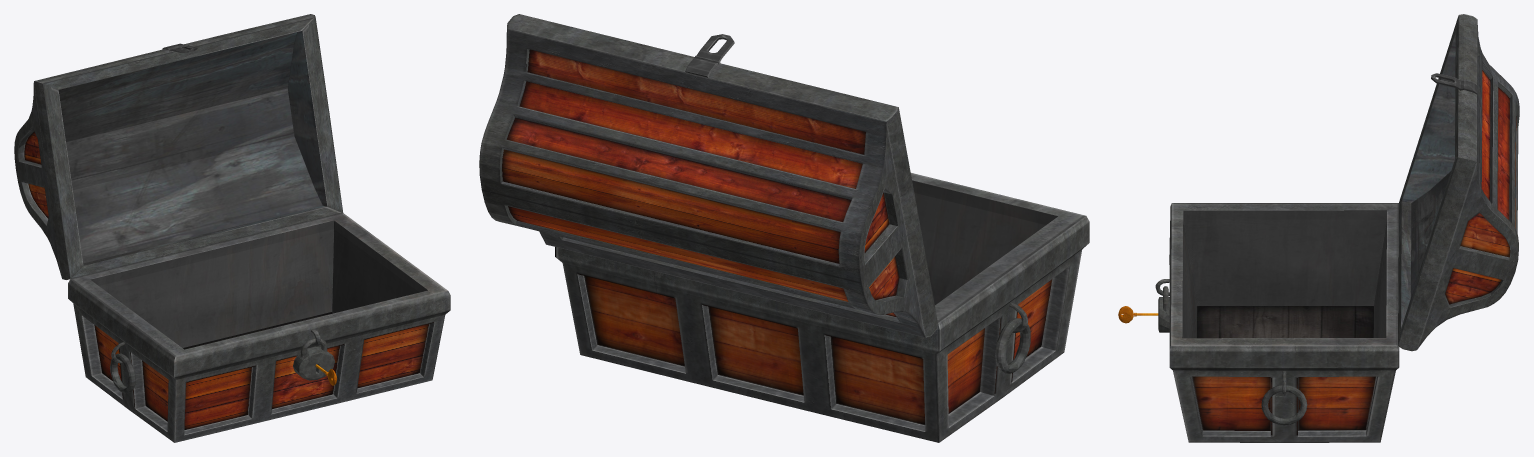
File: Chest gold open.FBX
3 renders of one model, left to right at view 1: azimuth 30°, elevation 25°; view 2: azimuth 150°, elevation 25°; view 3: azimuth 270°, elevation 25°, orthographic. The views are drawn at different scales.
Visible parts, largest first — view 1: chest gold open; view 2: chest gold open; view 3: chest gold open.
Part boxes in pixels (x1,y1,x2,y2): chest gold open: [14, 14, 450, 442]; chest gold open: [479, 14, 1089, 442]; chest gold open: [1118, 14, 1519, 442].
Size of the model in its own units: 186 by 167 by 204.
Materials: 3 (3 with a texture image).
